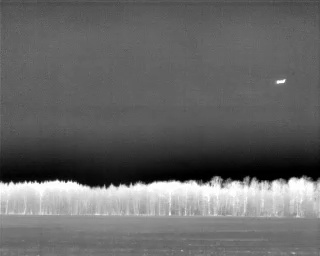DRONE: (272, 74, 290, 89)
